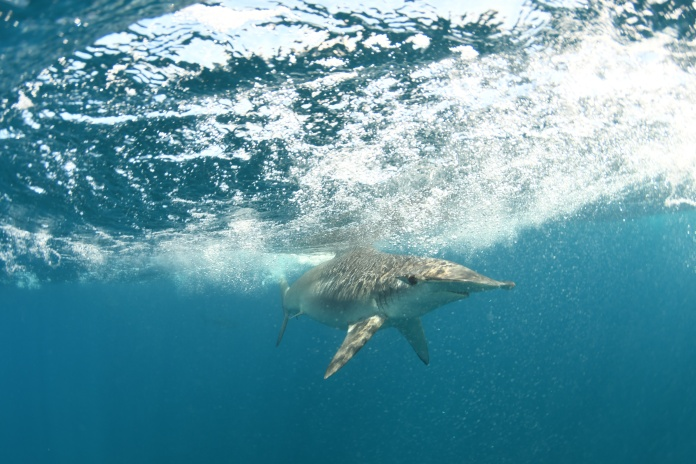Hammer: (241, 232, 520, 391)
